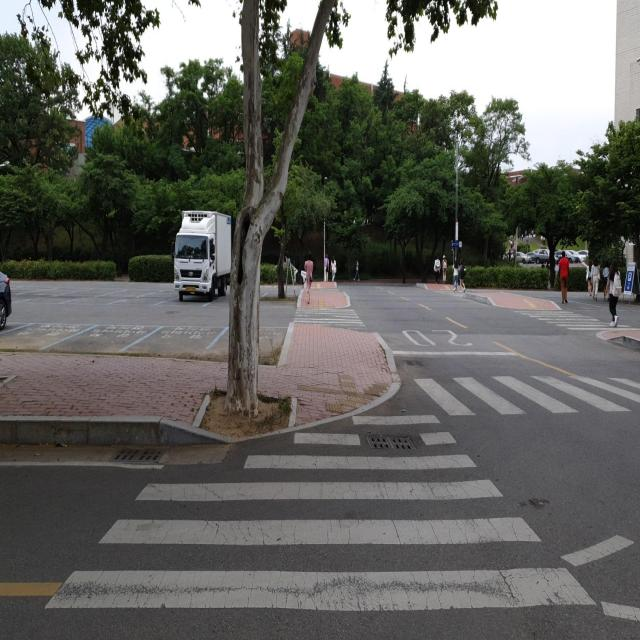횡단보도: (41, 408, 601, 612), (413, 372, 640, 421), (516, 306, 634, 332), (294, 303, 366, 329)
